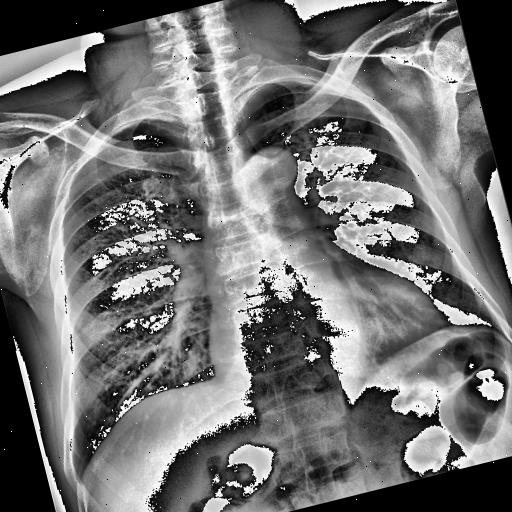0- Aortic enlargement: (230, 139, 307, 219), (226, 140, 304, 204)
11- Pleural thickening: (94, 108, 185, 146), (274, 64, 338, 104), (233, 70, 313, 102), (270, 66, 332, 101), (106, 111, 170, 137), (98, 116, 149, 145)
2- Calcification: (282, 164, 300, 186)
3- Cardiomegaly: (200, 270, 446, 392), (202, 272, 447, 392)
